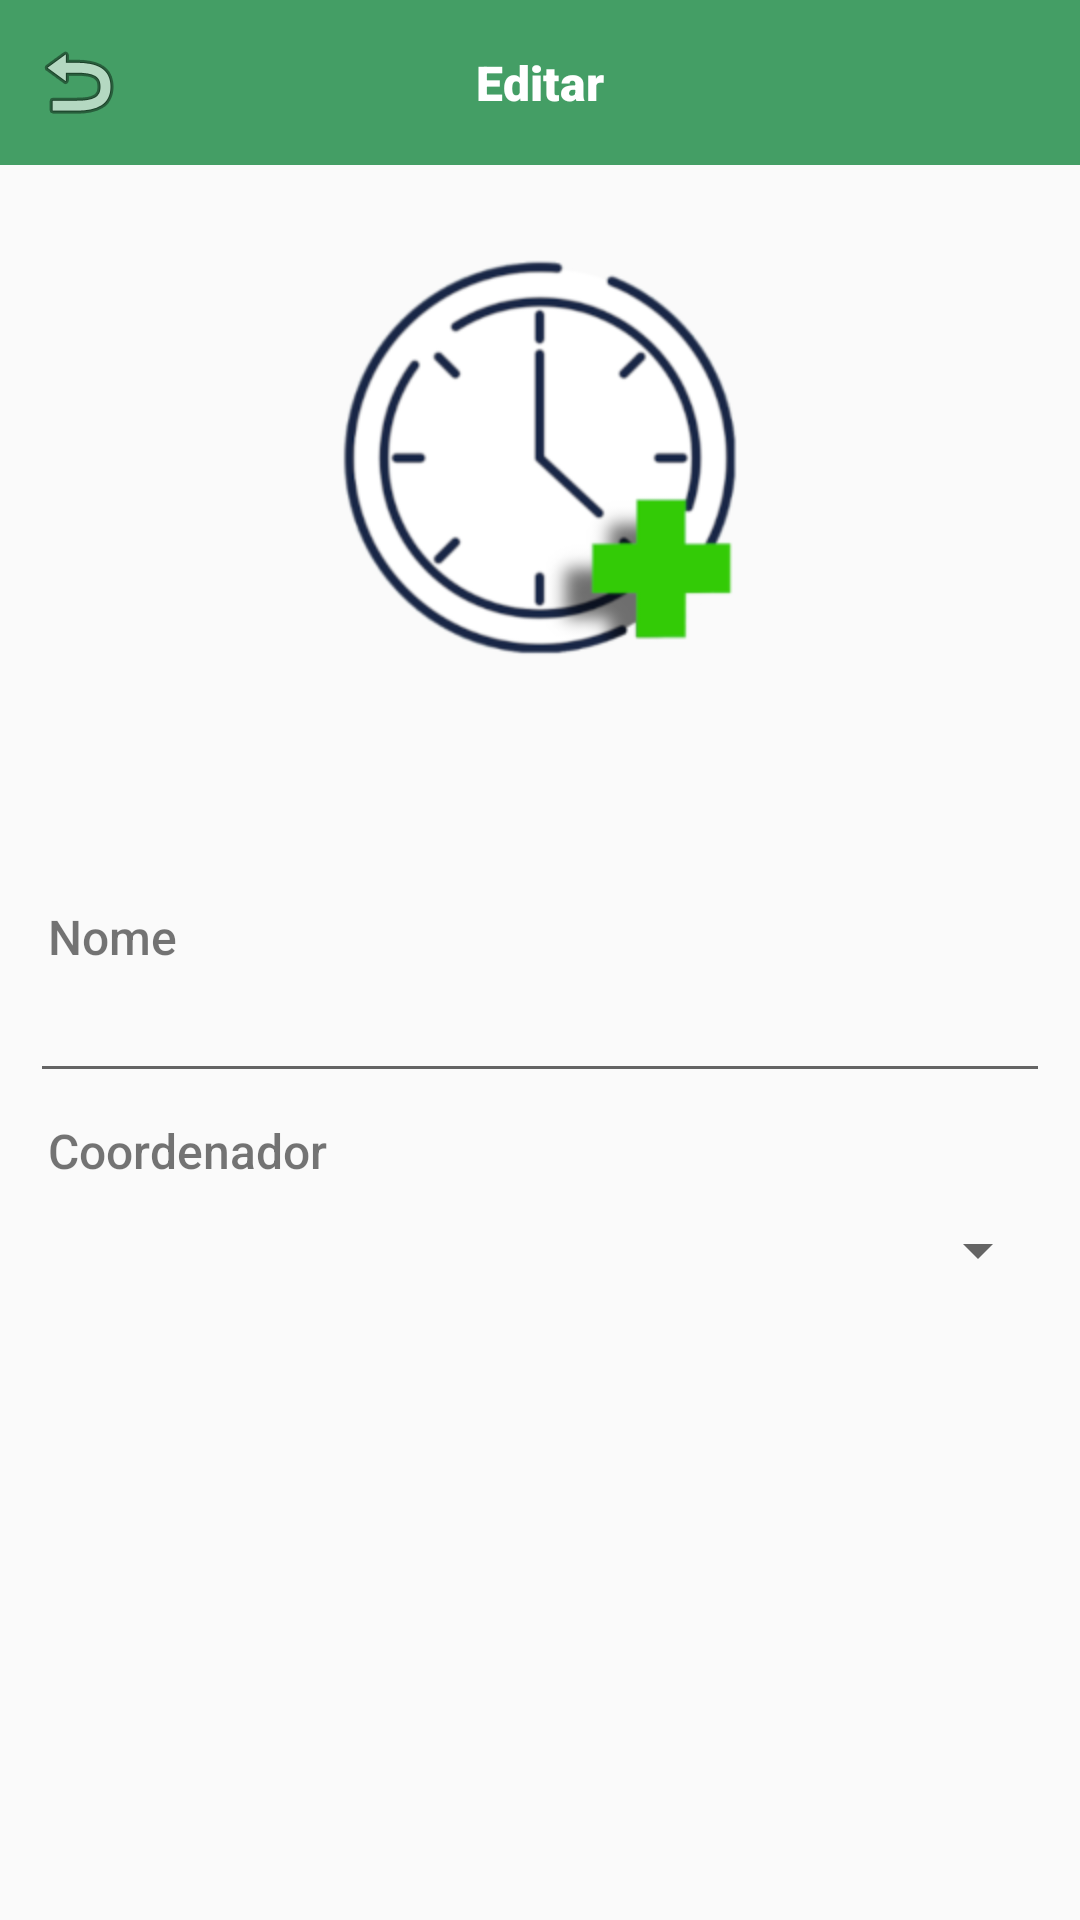

Named icons in this screenshot (1080 × 1920) and their bounding boxes, [x1=x1, y1=y1, x2=x2, y2=y2]:
revert: [x1=45, y1=52, x2=114, y2=114]
